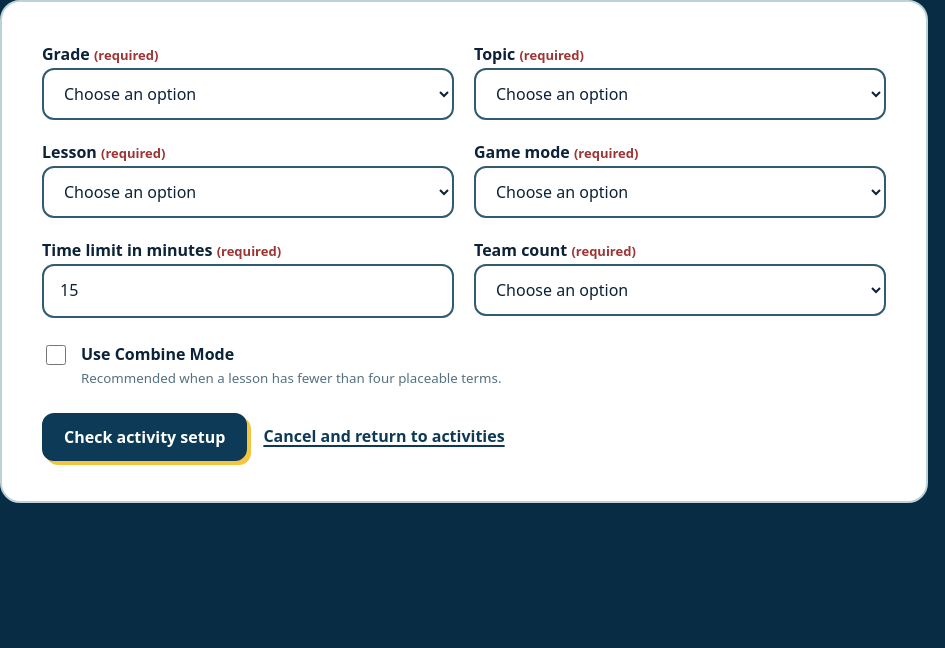
Test: teacher workflow prototype forms › checks a complete activity without assigning or saving it
Select "Grade 7" in the dropdown labelled "Grade (required)". click: (248, 94)
box: [42, 68, 454, 120]
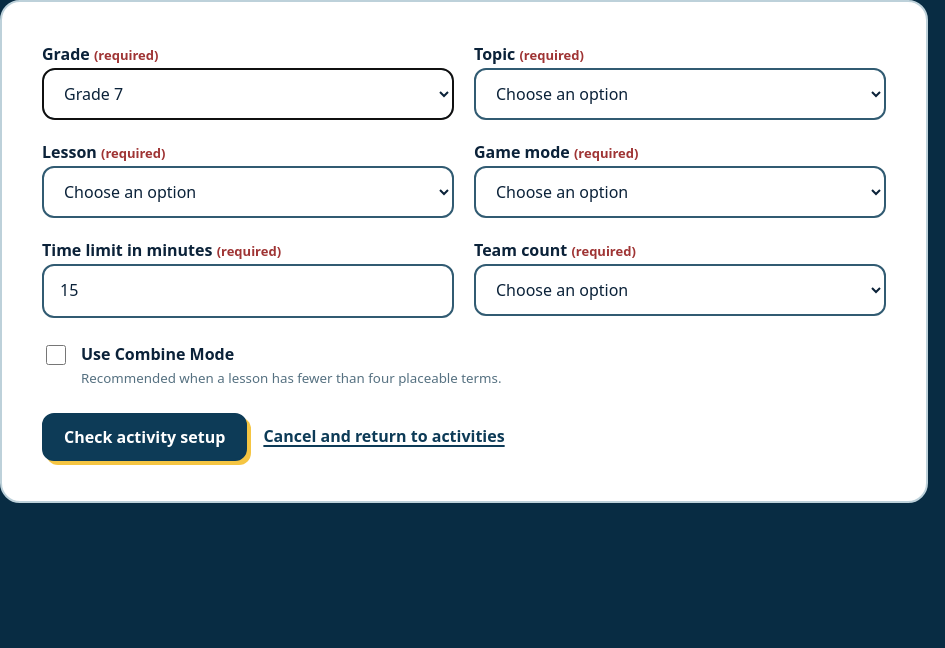
Select "Grade 7 · Probability" in the dropdown labelled "Topic (required)". click: (680, 94)
box: [474, 68, 886, 120]
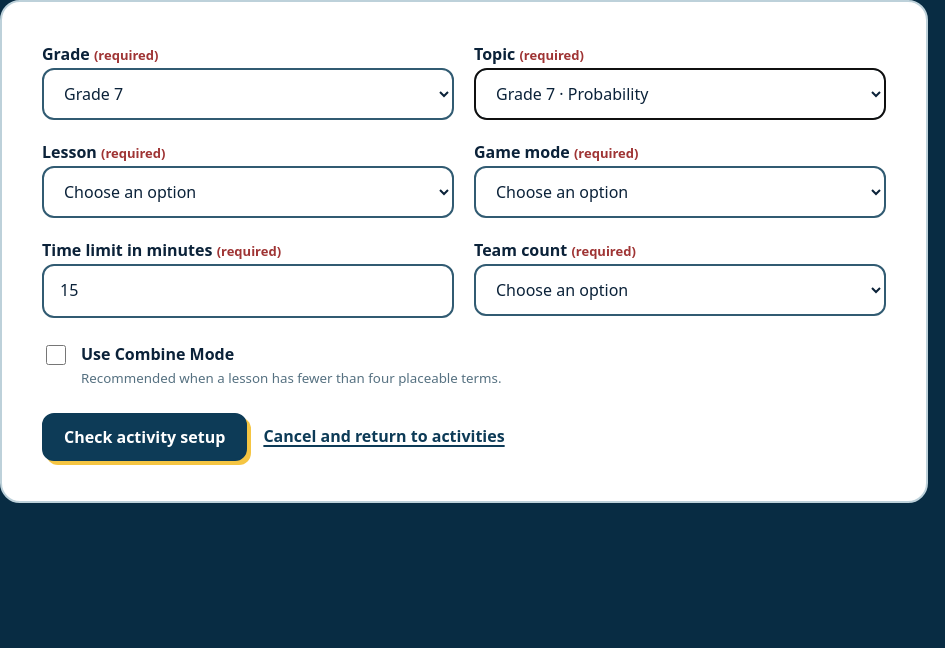
Select "7-7-3 · Understand Experimental Probability" in the dropdown labelled "Lesson (required)". click: (248, 192)
box: [42, 166, 454, 218]
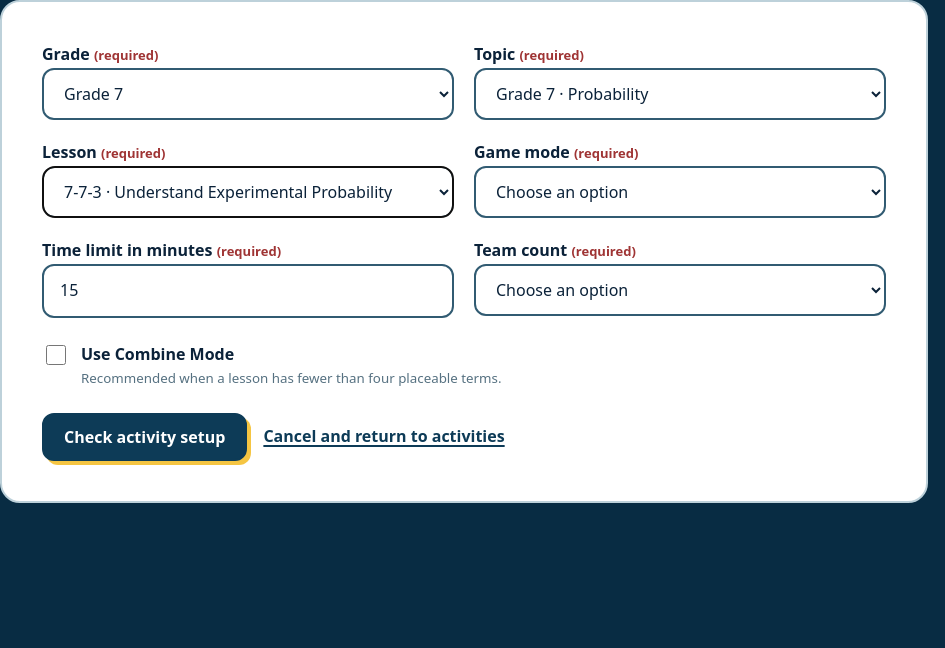
Select "Team vocabulary hunt" in the dropdown labelled "Game mode (required)". click: (680, 192)
box: [474, 166, 886, 218]
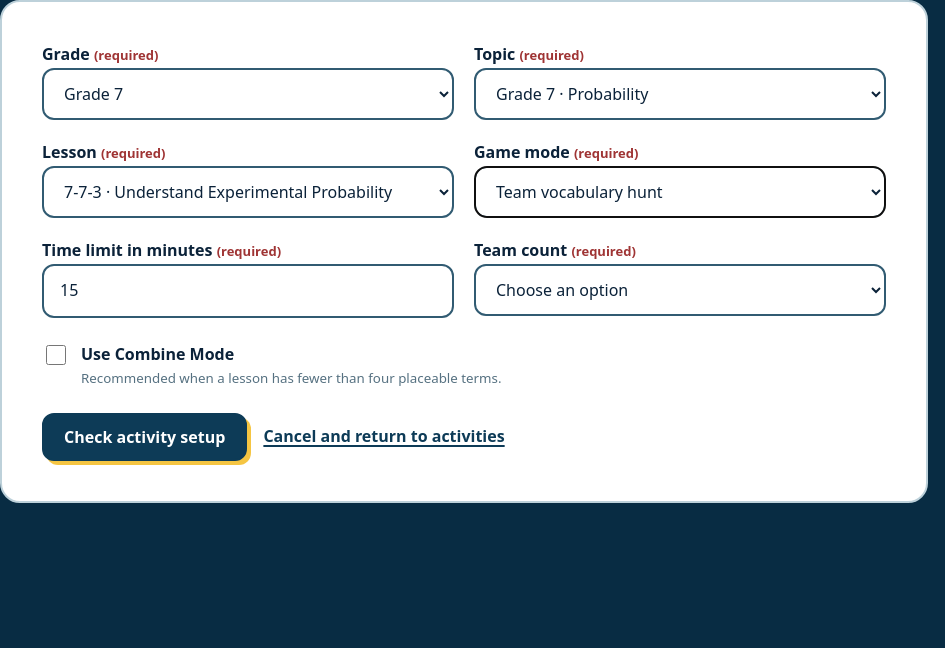
Select "4 teams" in the dropdown labelled "Team count (required)". click: (680, 290)
box: [474, 264, 886, 316]
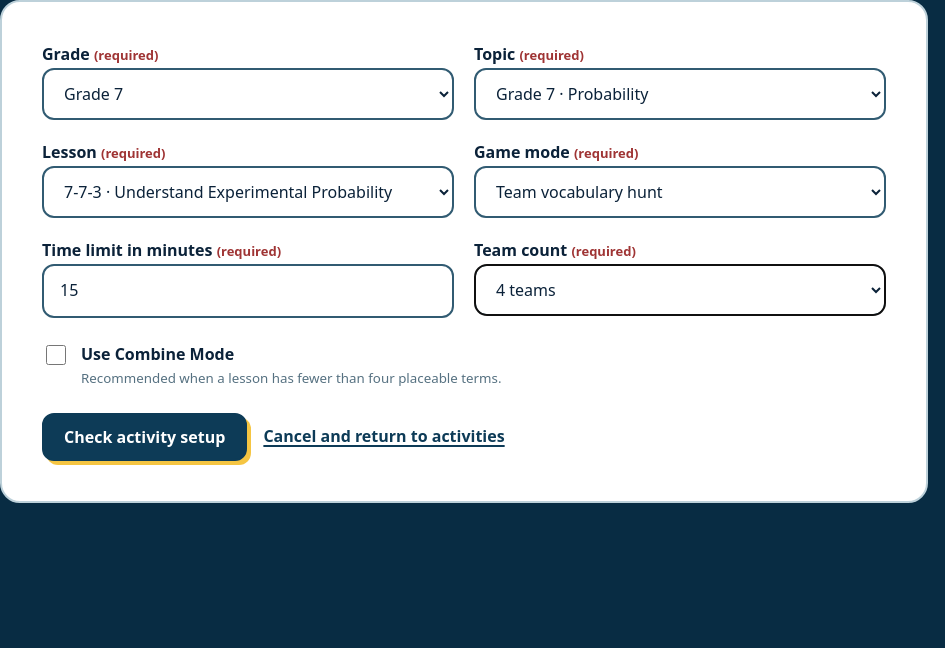
Click the button "Check activity setup". click: (145, 437)
box: [42, 413, 247, 461]
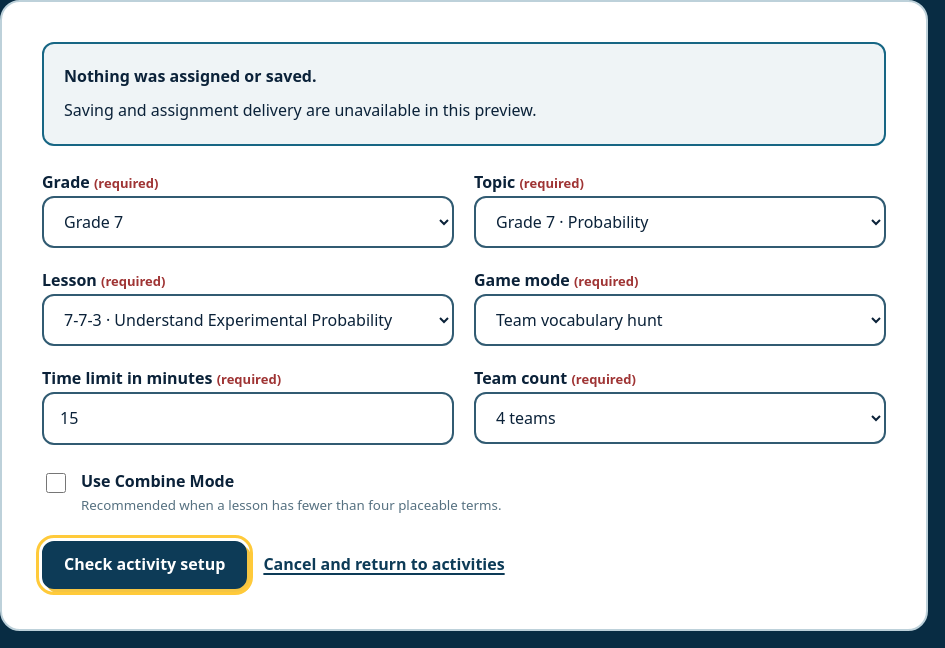
Check: the text "Nothing was assigned or saved." is shown, box [64, 65, 316, 87]
